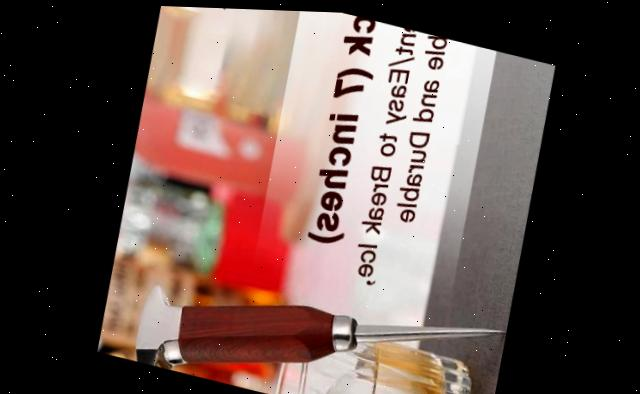ice pick: (128, 243, 505, 394)
